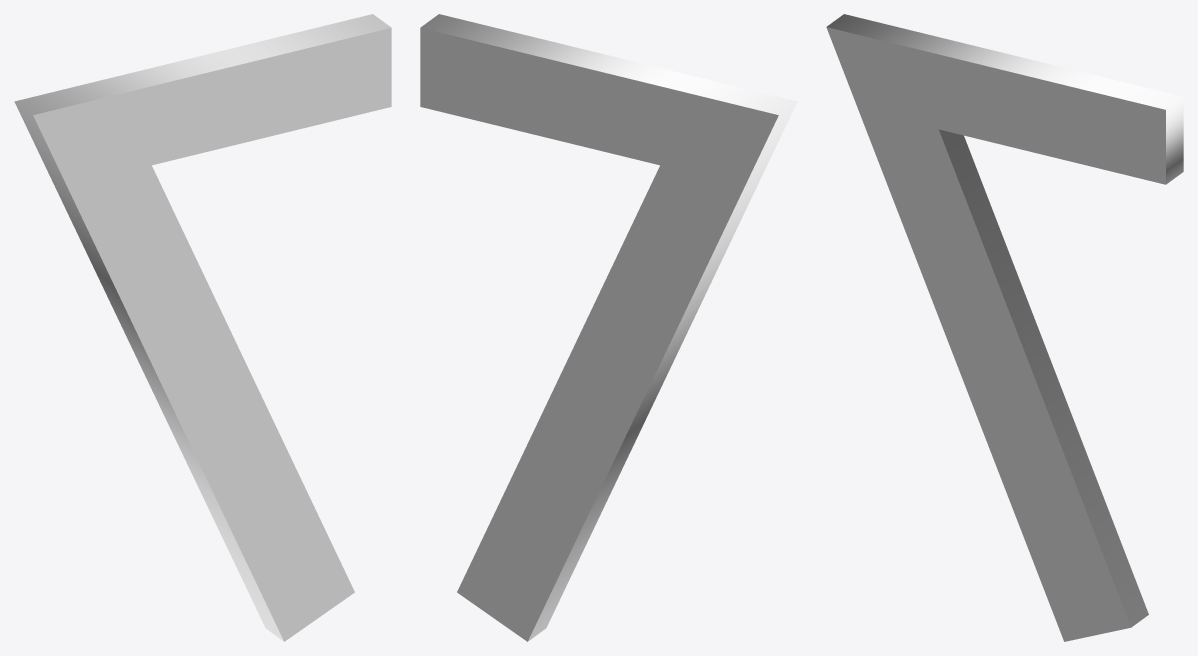
Rendered from Seven.obj.
3 views of the same model, side by side, from view 1: azimuth 30°, elevation 25°; view 2: azimuth 150°, elevation 25°; view 3: azimuth 330°, elevation 25° (orthographic). The views are drawn at different scales.
Parts seen in each view (by area): view 1: テキスト; view 2: テキスト; view 3: テキスト.
Boxes of the visible parts, bbox=[...] form: テキスト: bbox=[14, 14, 391, 641]; テキスト: bbox=[420, 14, 797, 641]; テキスト: bbox=[826, 14, 1183, 641].
Bounding box in the file's own units: 0.441 × 0.691 × 0.04.
Materials: 1 (1 with a texture image).
